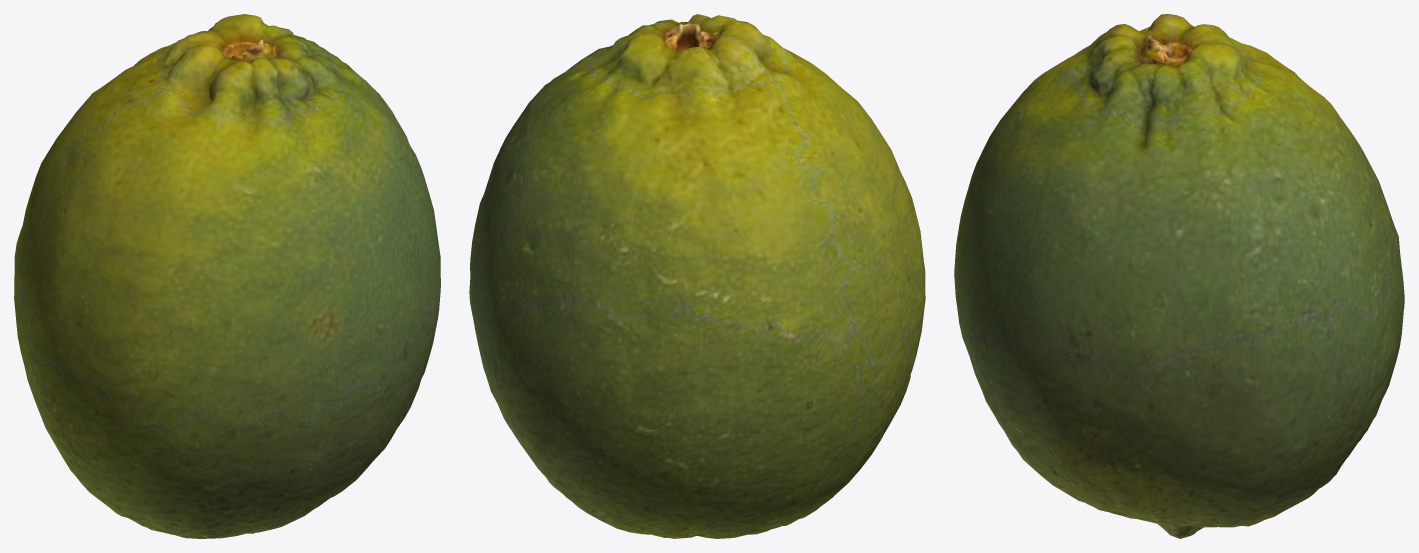
Rendered from food_lime_01.glb.
3 views of the same model, side by side, from view 1: azimuth 30°, elevation 25°; view 2: azimuth 150°, elevation 25°; view 3: azimuth 270°, elevation 25° (orthographic).
Parts seen in each view (by area): view 1: food_lime_01; view 2: food_lime_01; view 3: food_lime_01.
Boxes of the visible parts, left/top/right/bottom form: food_lime_01: left=14, top=14, right=440, bottom=538; food_lime_01: left=469, top=14, right=925, bottom=538; food_lime_01: left=954, top=14, right=1404, bottom=538.
Bounding box in the file's own units: 0.0601 × 0.0754 × 0.0613.
Materials: 1 (1 with a texture image).
